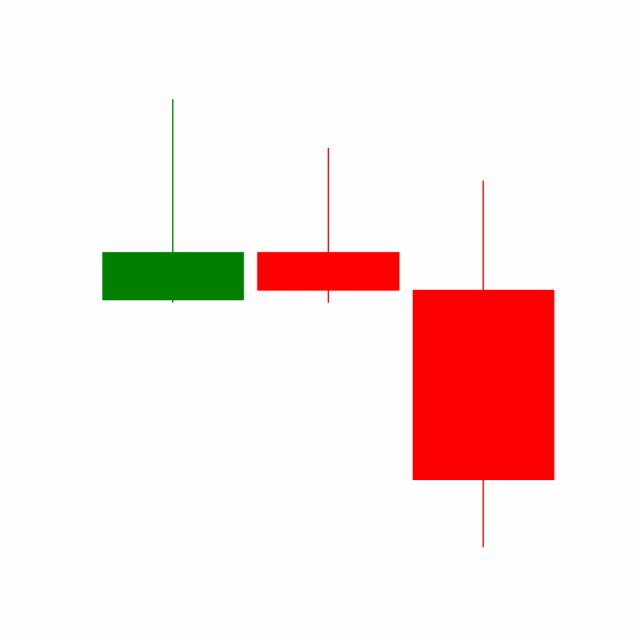Gravestone Doji: (249, 145, 406, 305)
